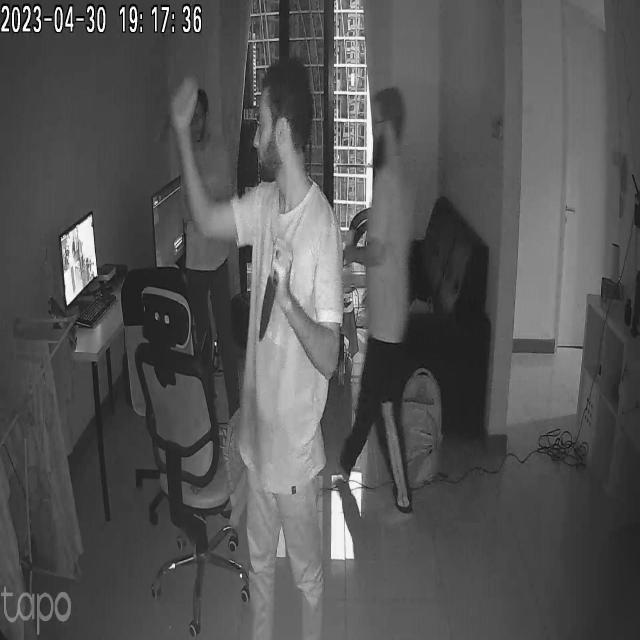Knife: (251, 260, 287, 342)
